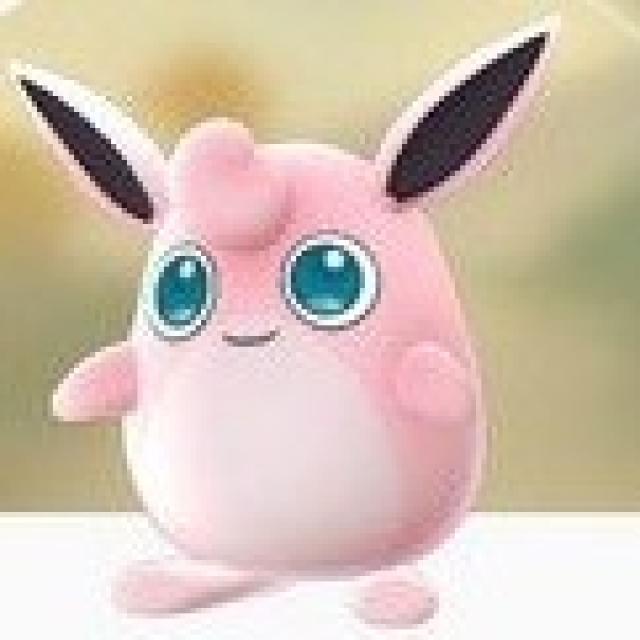Wigglytuff: (74, 108, 482, 625)
